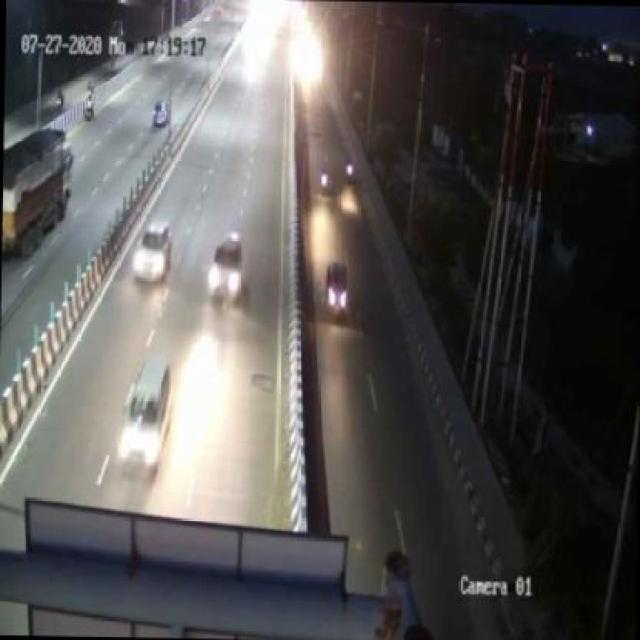car: (117, 354, 172, 471), (134, 215, 177, 283), (208, 237, 246, 303), (325, 258, 352, 317)
